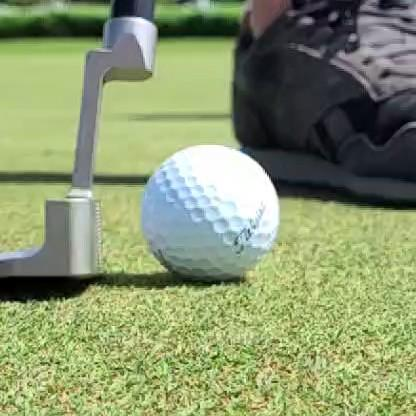golfball: (140, 144, 279, 282)
